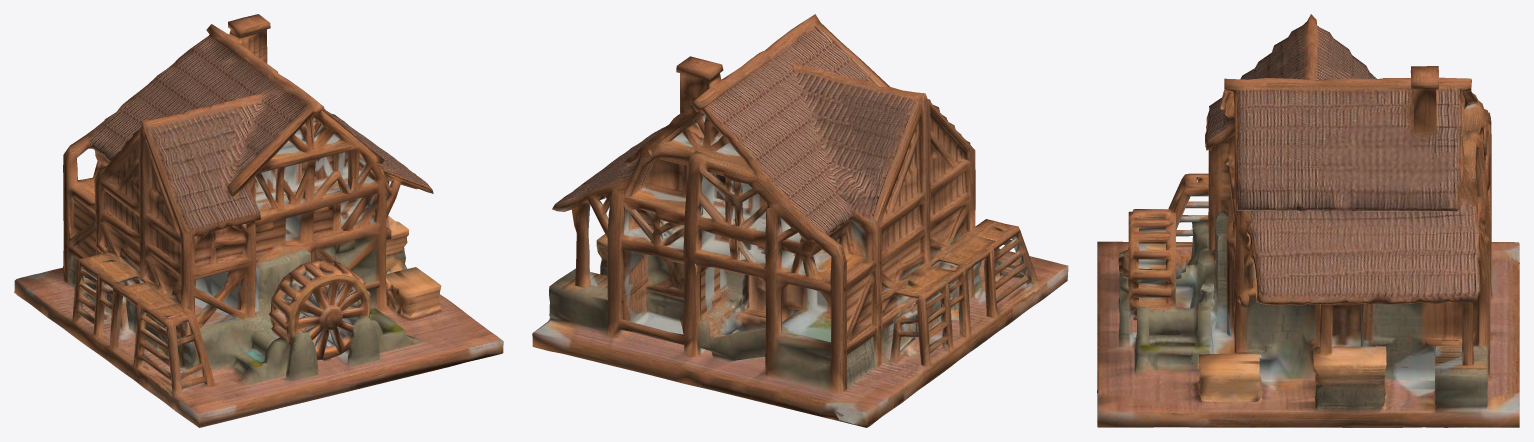
The model's file is lumbercamp.glb.
3 views of the same model, side by side, from view 1: azimuth 30°, elevation 25°; view 2: azimuth 150°, elevation 25°; view 3: azimuth 270°, elevation 25° (orthographic). The views are drawn at different scales.
Size of the model in its own units: 1.85 by 1.47 by 1.91.
1 material, 1 textured.
